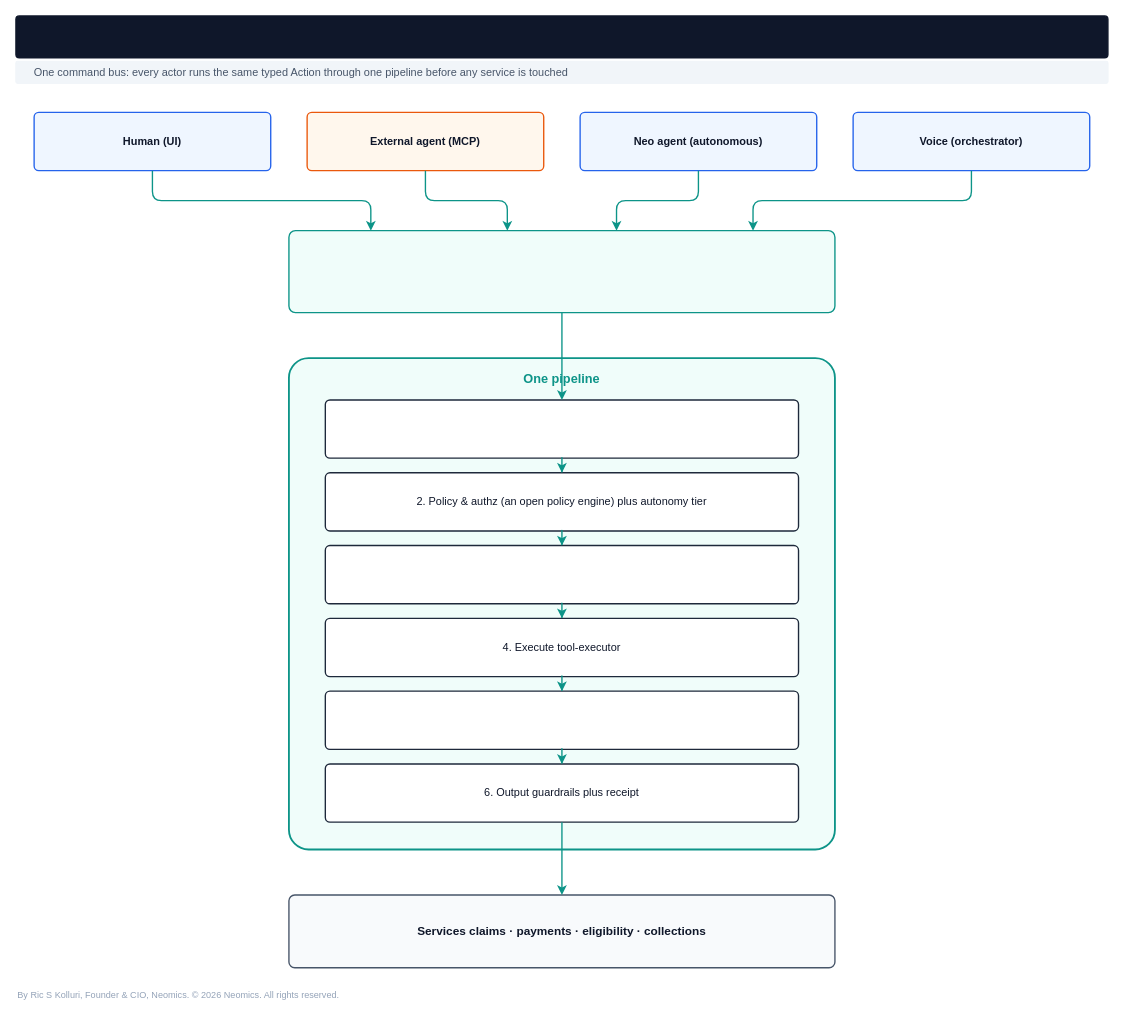
This 1125x1020 diagram has some shape labels left out. The shapes that lost their labels are listed below. From the top down, each one's centre as x and y in pixels, then its label:
At [561,36]: "HARP — Universal Action Layer".
At [561,271]: "Action Envelope actor · intent · scope · purpose idempotency key · payload".
At [561,428]: "1. Authn human JWT · agent token · ID-JAG".
At [561,574]: "3. Input guardrails".
At [561,720]: "5. Sign & audit AgentAction · event log".
